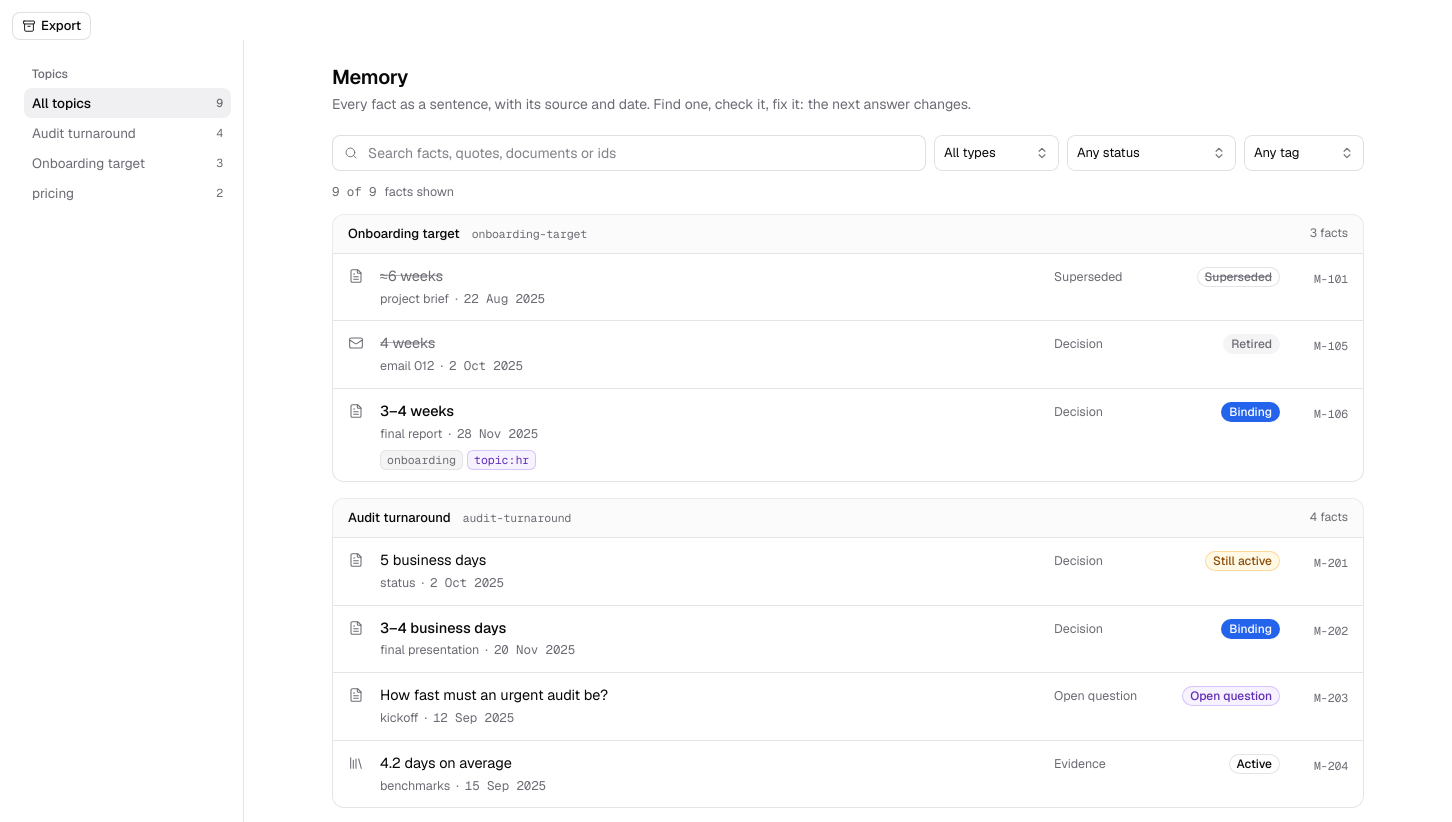
Test: Memory › topics › filters by topic from the title of a group
Click the button "Onboarding target" at (404, 233), box top-left (348, 224), bottom-right (460, 243)
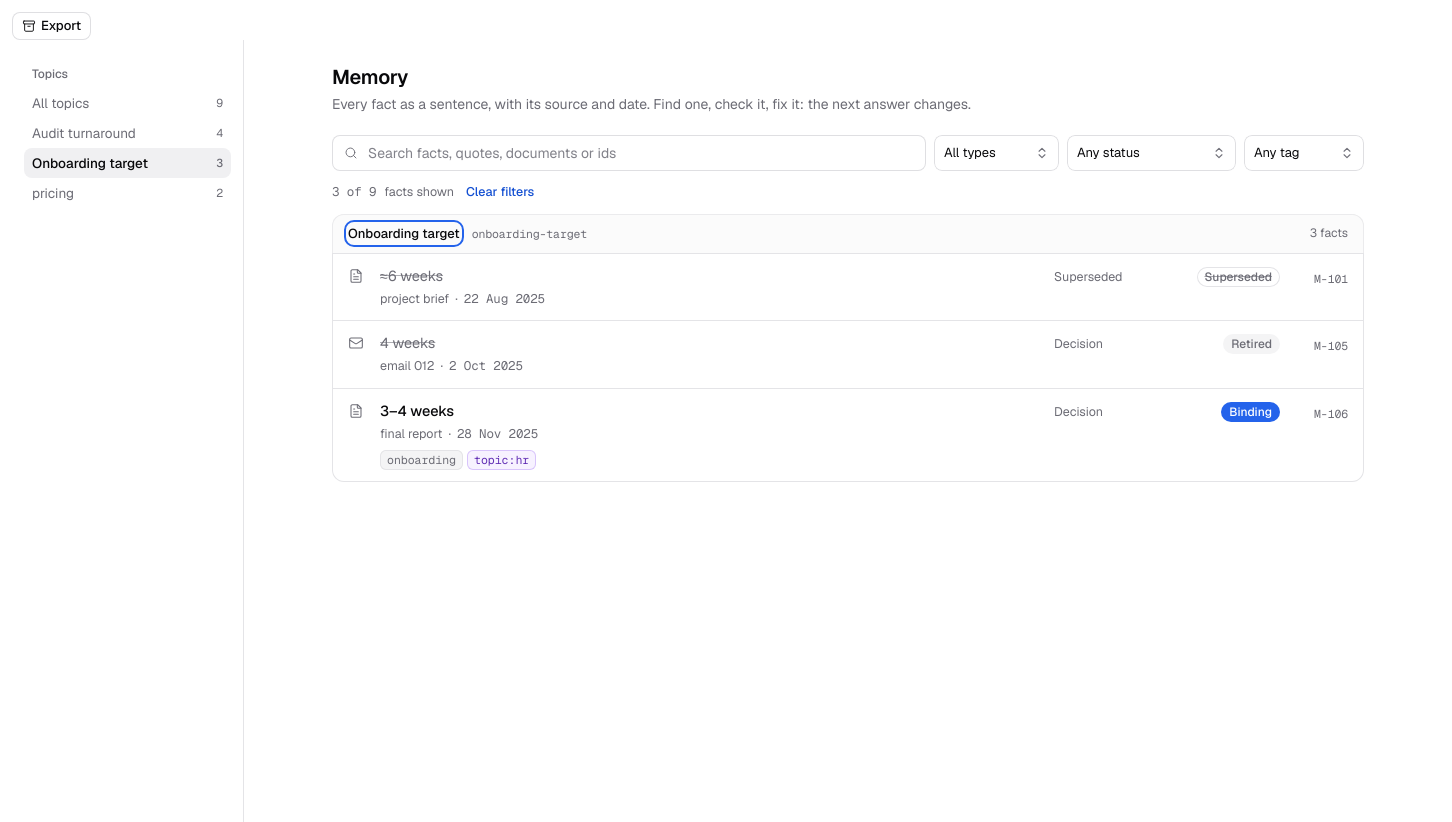
Expected: the text "3 of 9" is shown, top-left (332, 183), bottom-right (376, 202)
